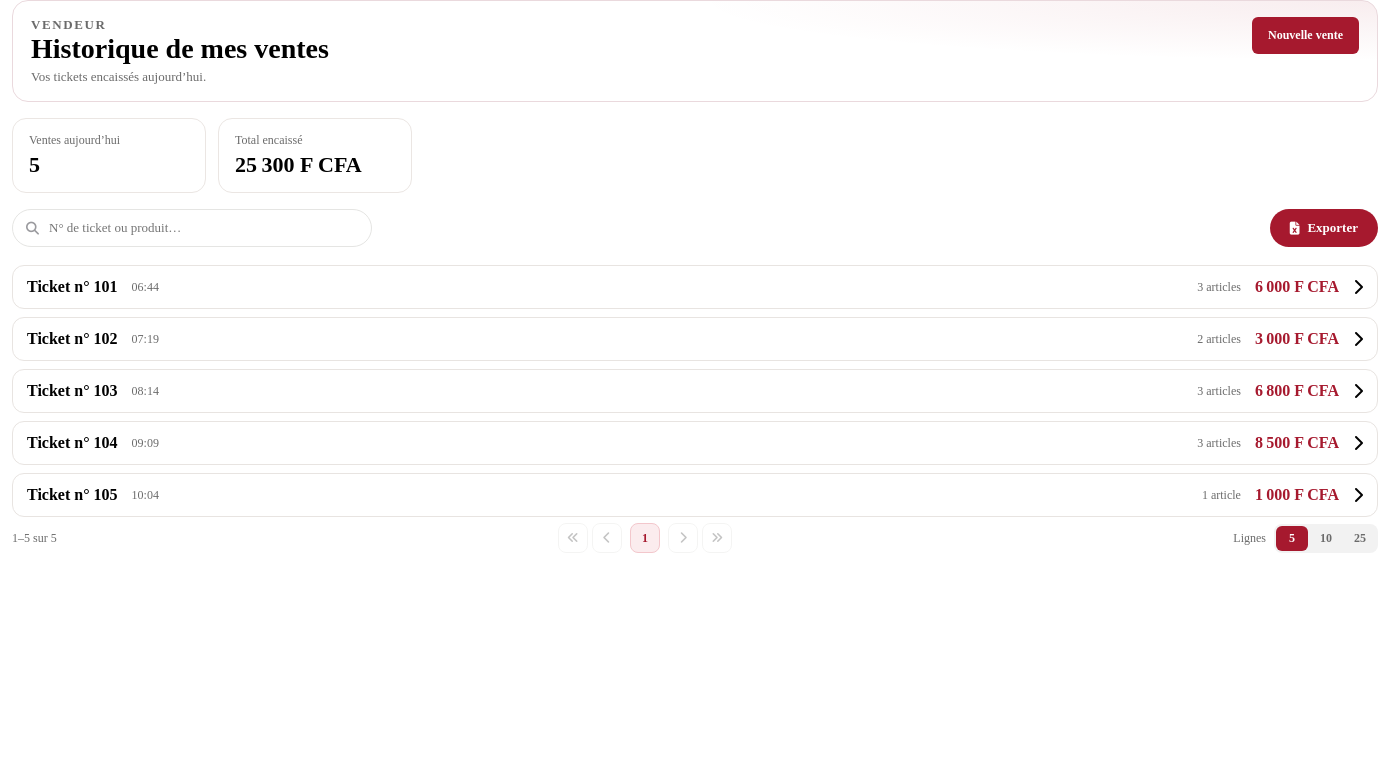
Test: Historique des ventes (Vendeur) › exports exactly the filtered sales and confirms it with a toast
The width and height of the screenshot is (1390, 768).
Type "102" into the search field named "Rechercher une vente" at [192, 228], box [12,209,372,247]
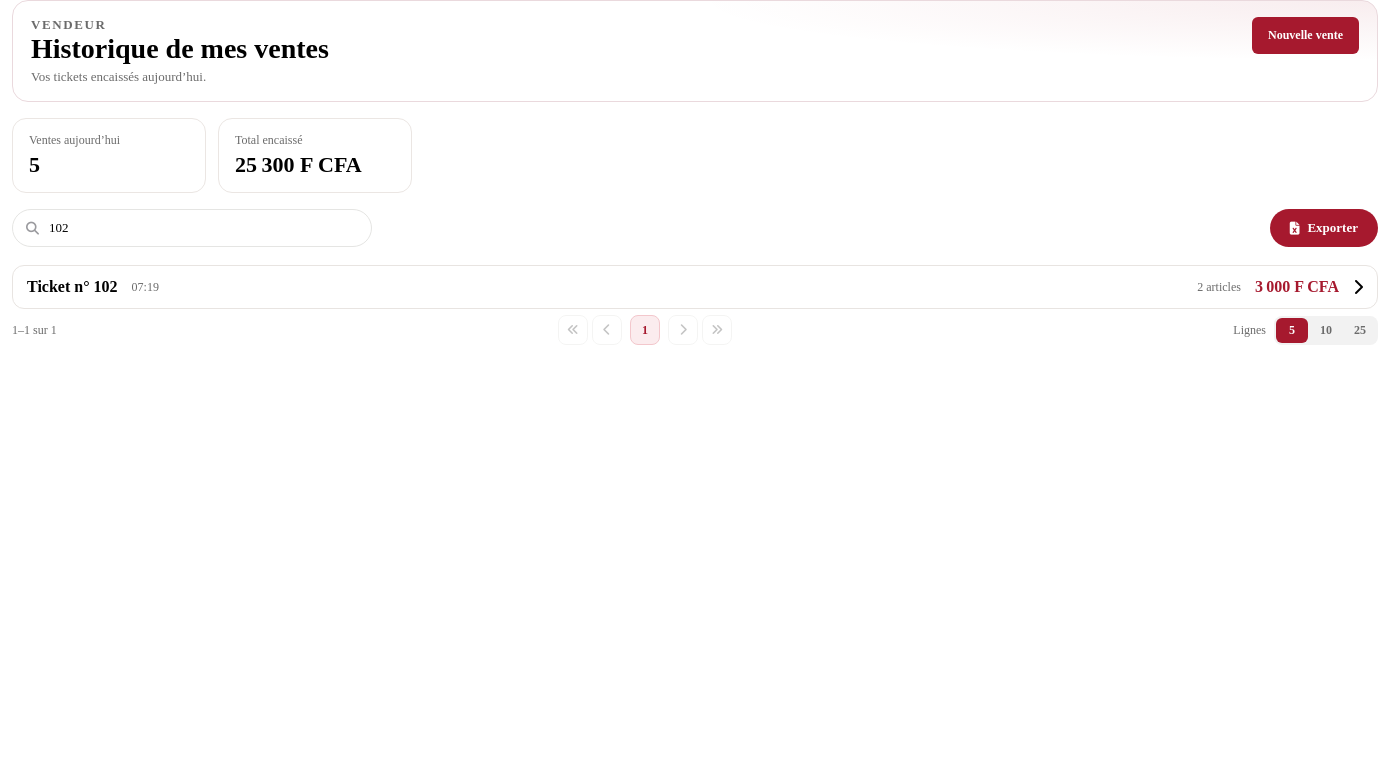
Click the button "Exporter" at [1324, 228], box [1270,209,1378,247]
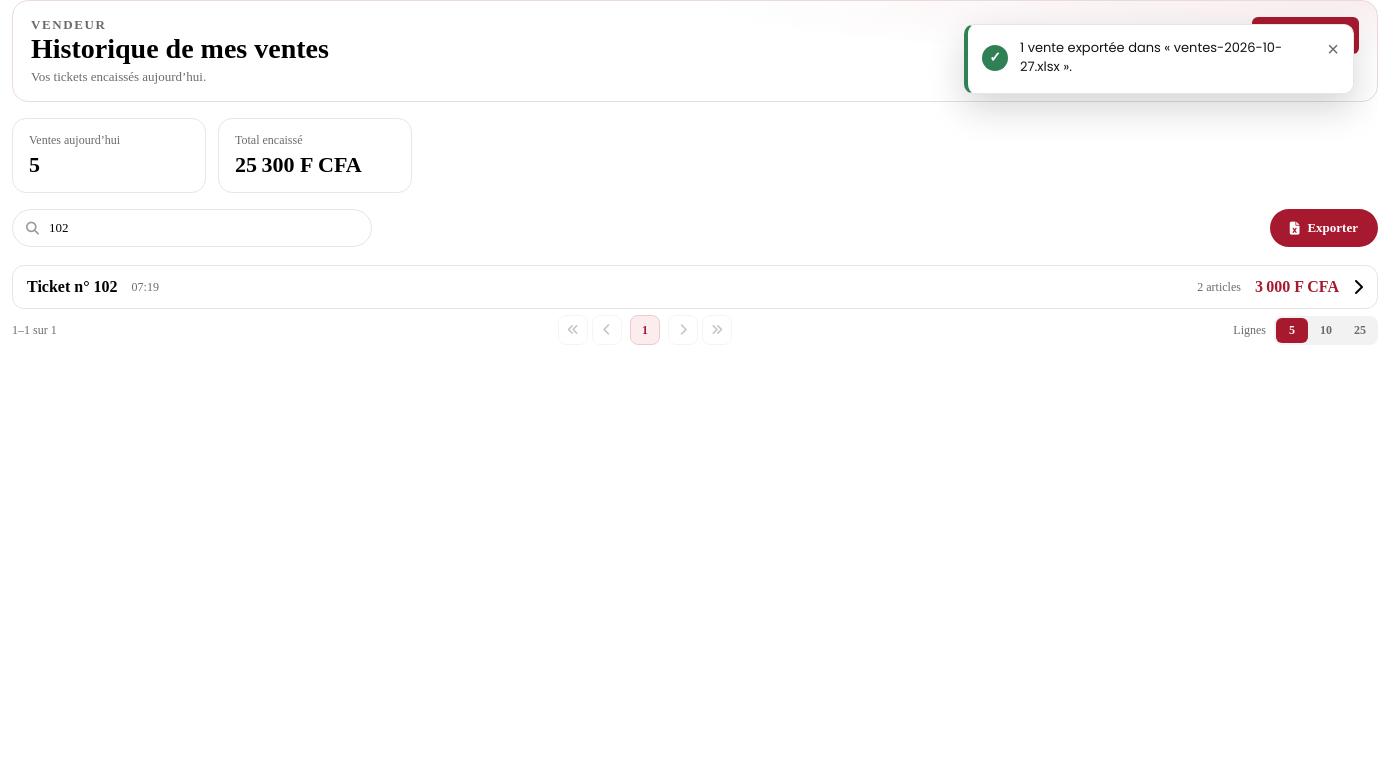
Check: the text "1 vente exportée dans « ventes-2026-10-27.xlsx »." is shown, box [1020,39,1309,77]
